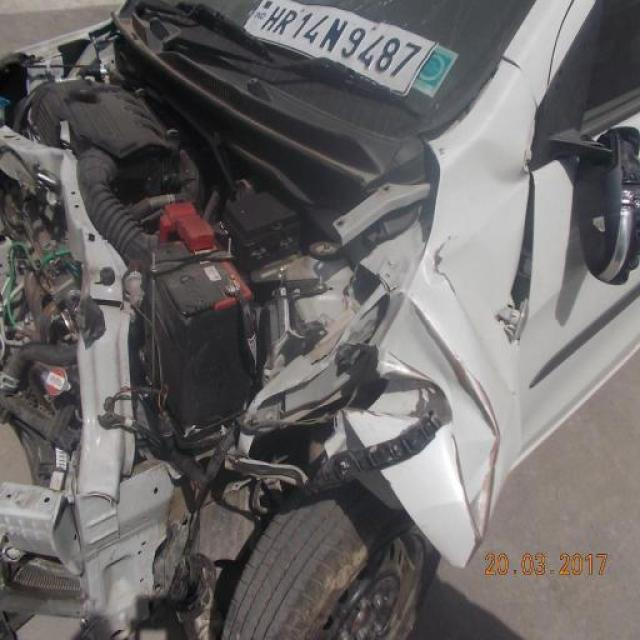crush: (3, 8, 512, 628)
tear: (484, 176, 540, 354)
